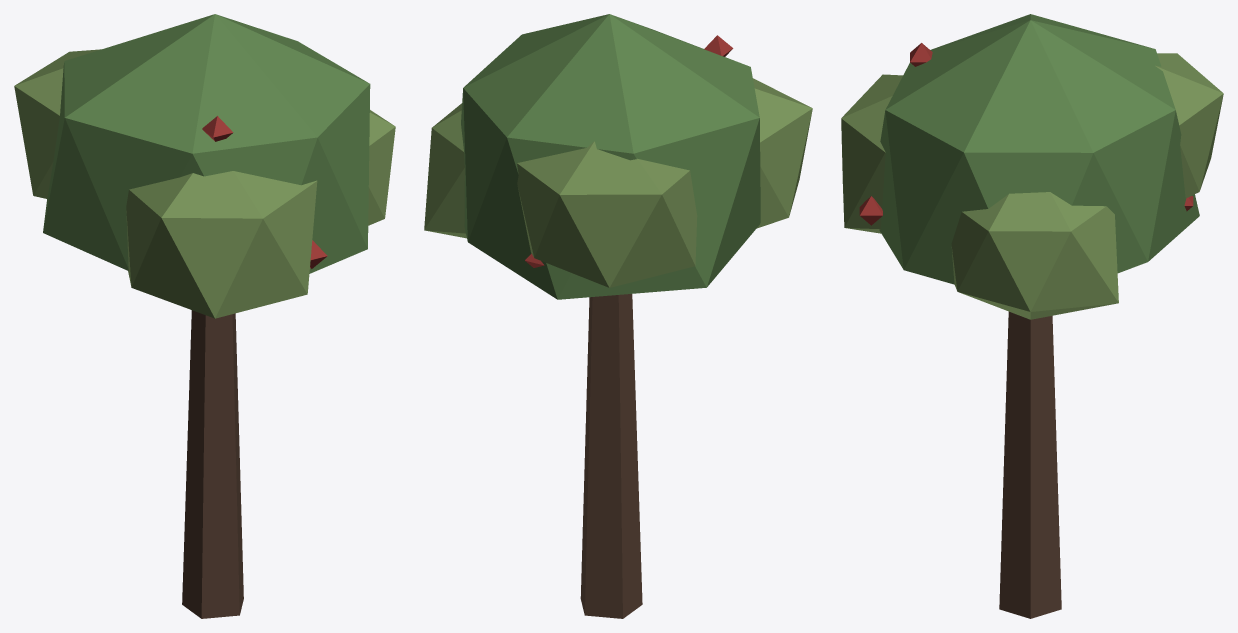
Rendered from tree_orchard.glb.
3 renders of one model, left to right at view 1: azimuth 30°, elevation 25°; view 2: azimuth 150°, elevation 25°; view 3: azimuth 270°, elevation 25°, orthographic.
Parts seen in each view (by area): view 1: tree_orchard_Crown, tree_orchard; view 2: tree_orchard_Crown, tree_orchard; view 3: tree_orchard_Crown, tree_orchard.
Part boxes in pixels (bbox=[...]): tree_orchard_Crown: bbox=[14, 14, 395, 318]; tree_orchard: bbox=[182, 310, 243, 618]; tree_orchard_Crown: bbox=[424, 14, 812, 299]; tree_orchard: bbox=[580, 294, 642, 618]; tree_orchard_Crown: bbox=[841, 14, 1223, 319]; tree_orchard: bbox=[999, 311, 1061, 618].
Size of the model in its own units: 1.01 by 1.77 by 1.05.
